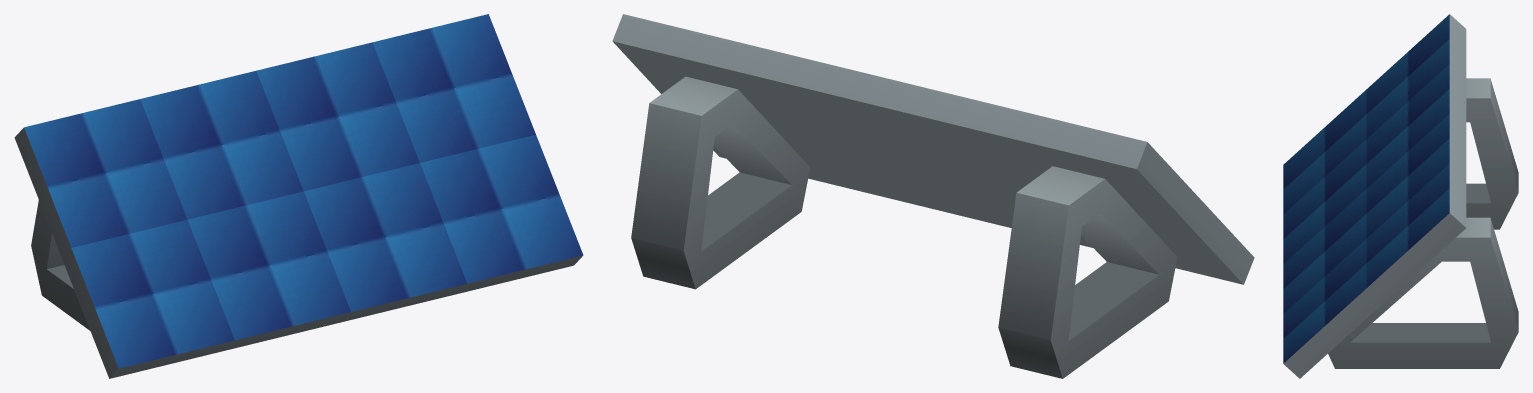
The model's file is solar-panel.glb.
3 views of the same model, side by side, from view 1: azimuth 30°, elevation 25°; view 2: azimuth 150°, elevation 25°; view 3: azimuth 270°, elevation 25° (orthographic). The views are drawn at different scales.
Parts seen in each view (by area): view 1: solarpanel; view 2: solarpanel; view 3: solarpanel.
Boxes of the visible parts, x1=… form: solarpanel: x1=14, y1=14, x2=583, y2=378; solarpanel: x1=612, y1=14, x2=1254, y2=378; solarpanel: x1=1283, y1=14, x2=1518, y2=378.
Size of the model in its own units: 6.07 by 2.5 by 3.03.
1 material, 1 textured.
